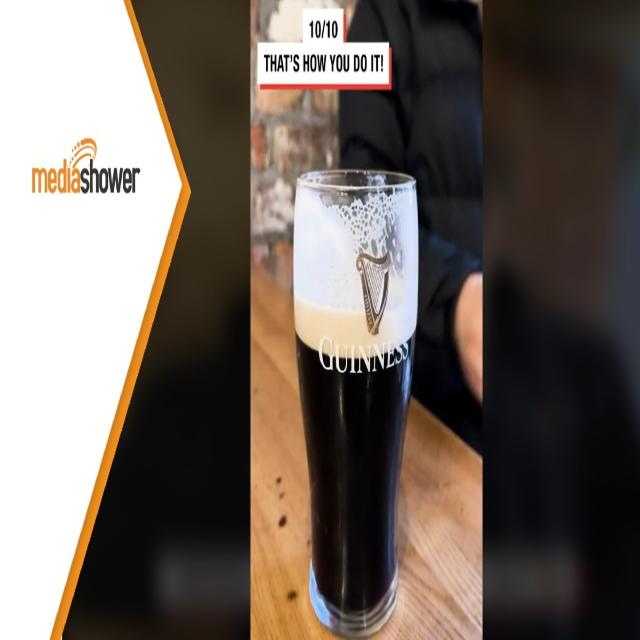split_guiness: (293, 173, 419, 640)
